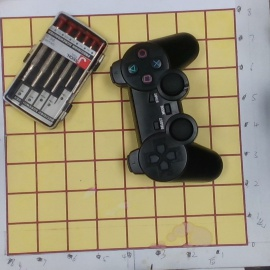remote: (110, 33, 222, 182)
